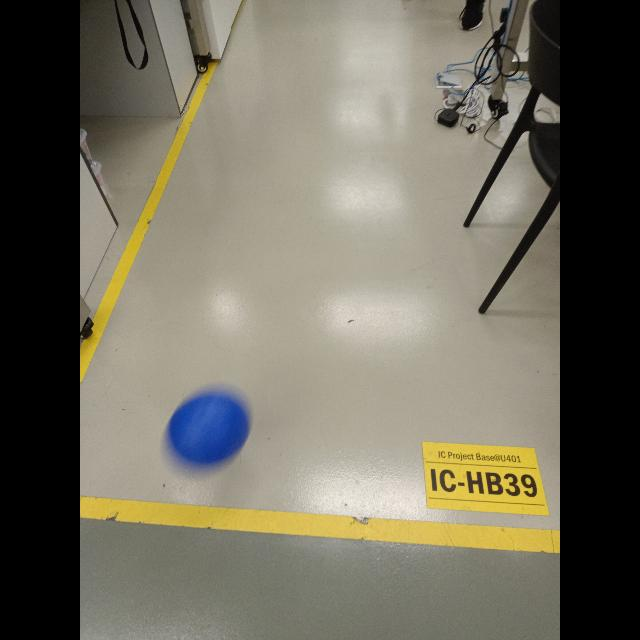B: (161, 383, 255, 485)
